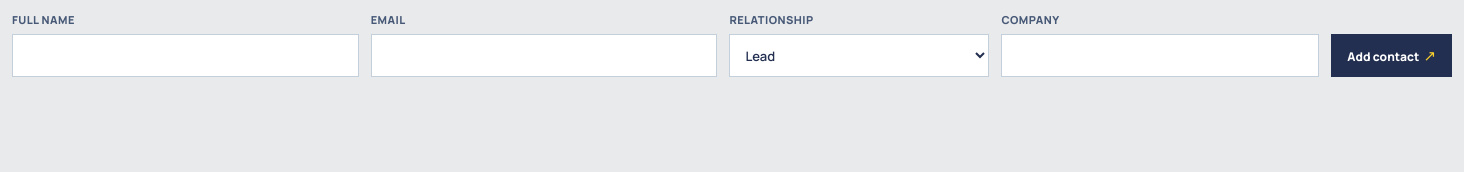
Test case: CreateContactForm › does not submit invalid contact data
The image size is (1464, 172).
Click the button "Add contact↗" at {"x": 1392, "y": 56}, box [1331,34,1452,77]
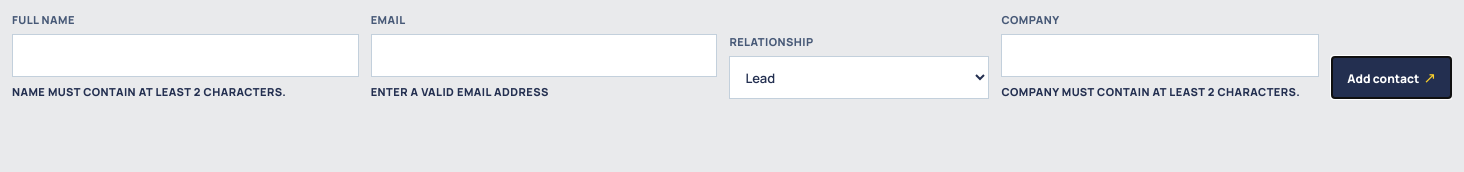
Result: the number of messages is 3 at [12,84,286,99]; [371,84,549,99]; [1001,84,1319,99]
